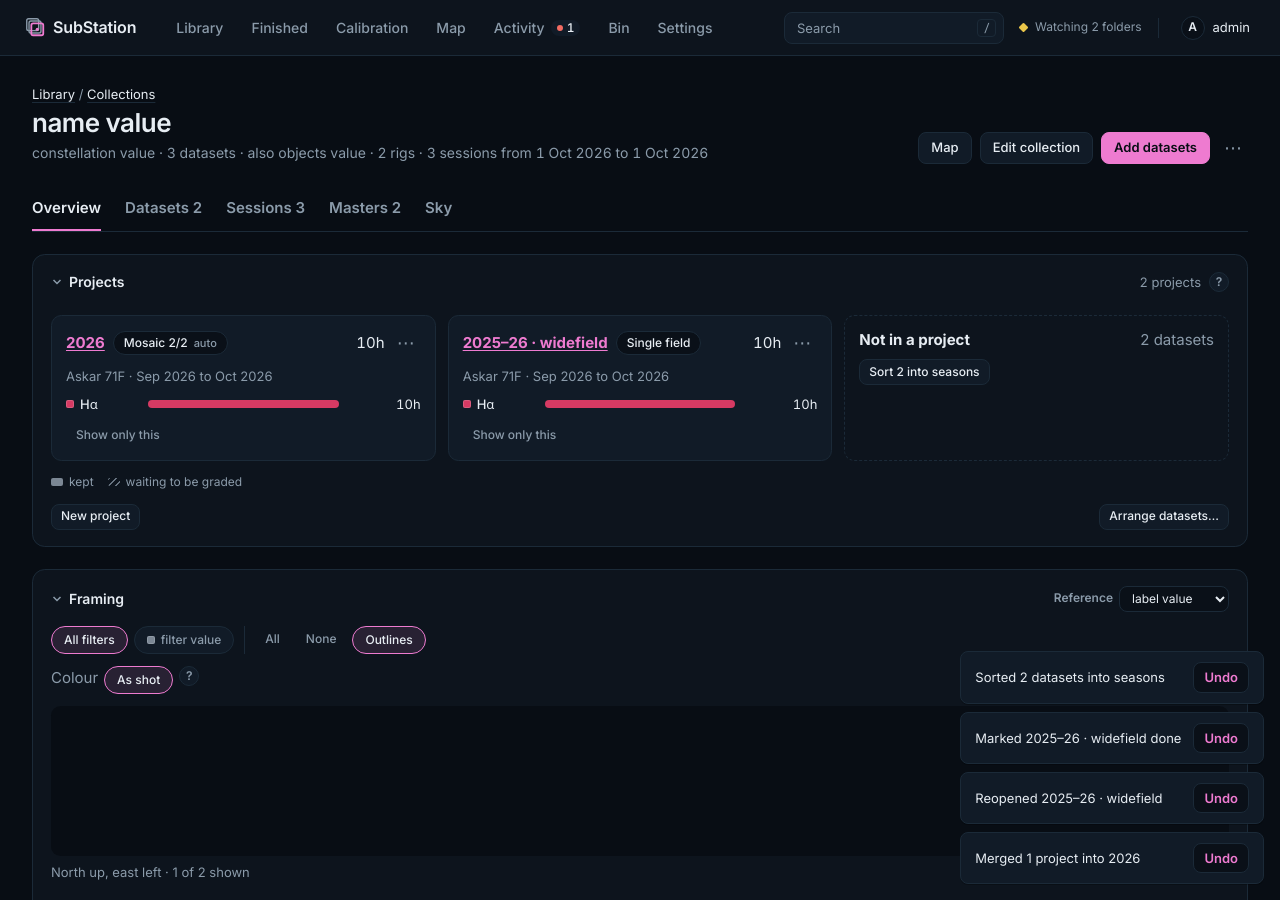
Test: Projects panel (amendment 2026-10-22) › won't merge a project linked to a finished image, and says why
Expected: the link "2025–26 · widefield" is shown, [463, 333, 608, 352]
Click the button named "More for 2025–26 · widefield": click(802, 343) [787, 328, 817, 358]
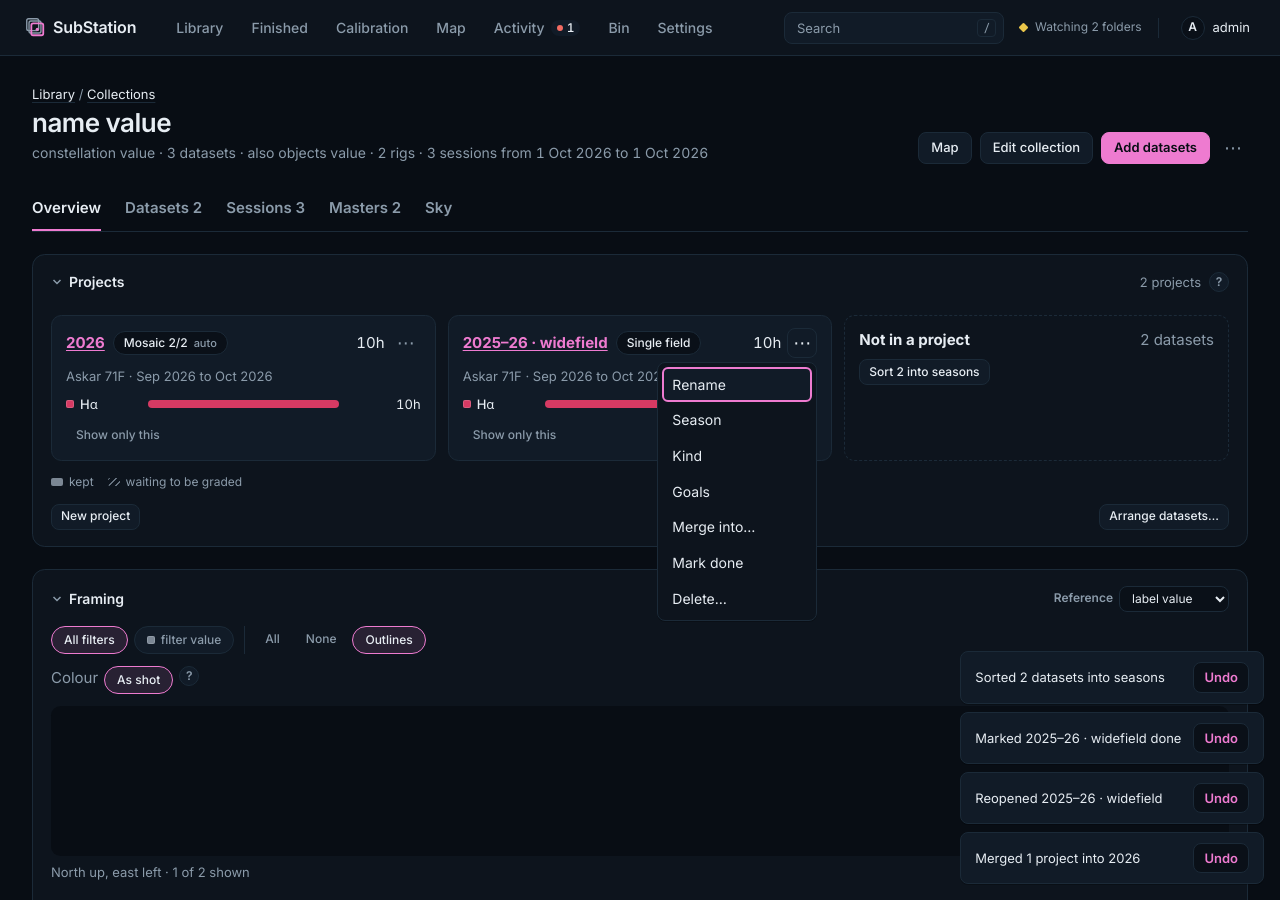
Click the menu item "Merge into…": click(737, 527) [662, 509, 812, 545]
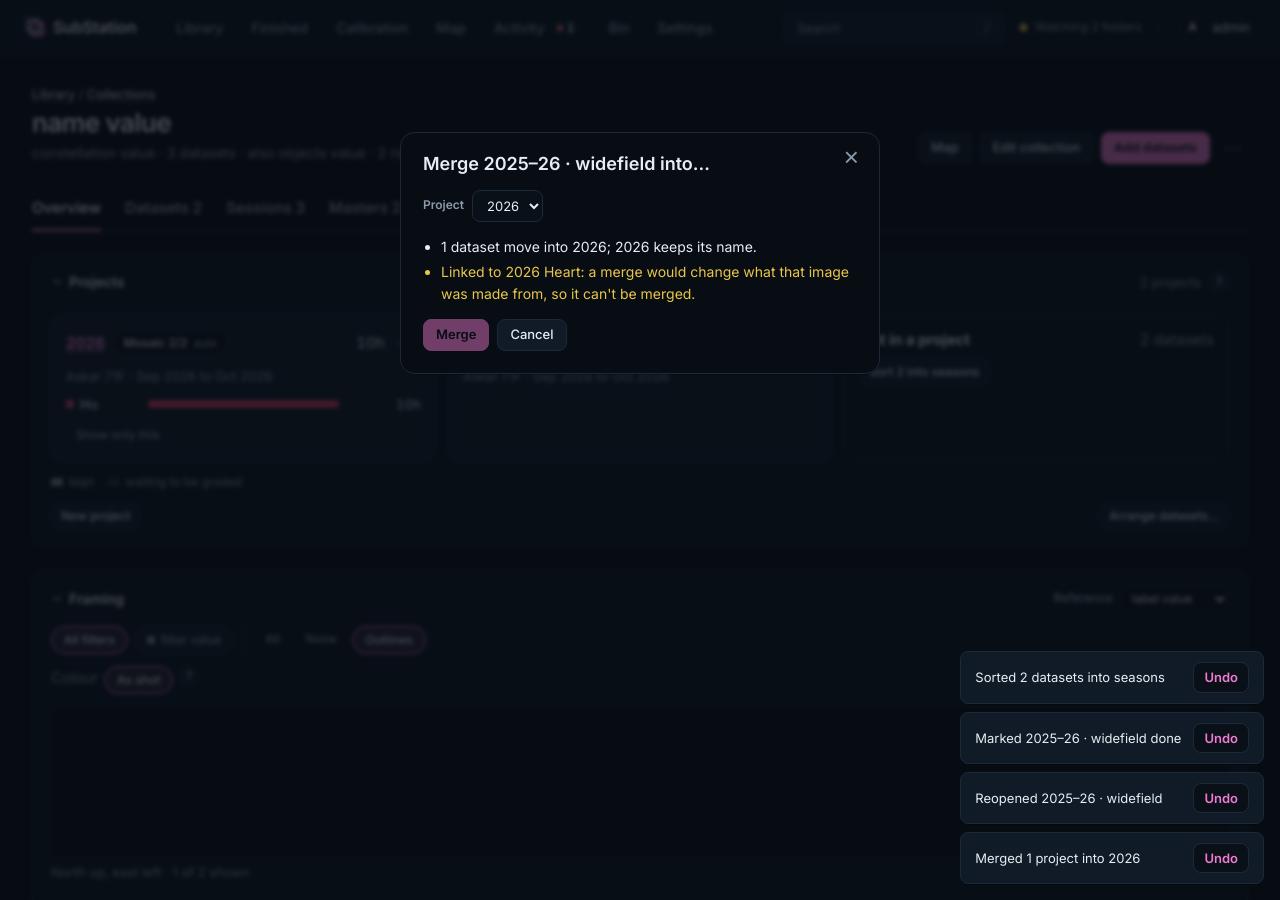
Expected: the list item "Linked to 2026 Heart" is shown, [441, 261, 857, 305]
Expected: the button "Merge" is disabled, [423, 319, 489, 351]
